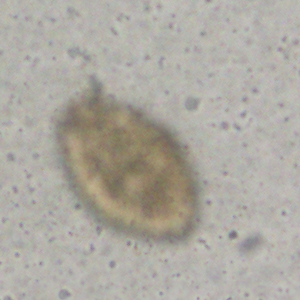Fasciola_hepatica_egg: (61, 91, 199, 244)
